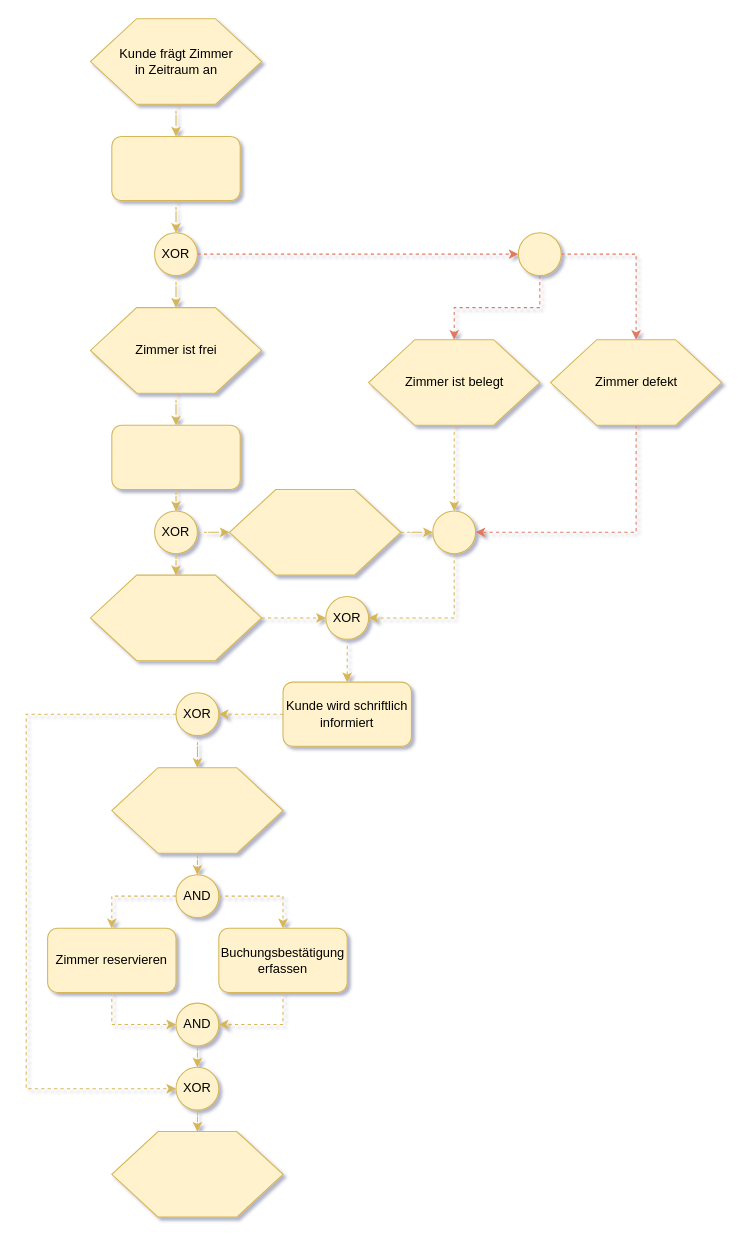
Image size: 747x1242. Some labels were removed from this diagram. Each missing label, with the centre of its shape:
Kategorie nicht verfügbar: point (314, 531)
Kategorie verfügbar: point (175, 617)
Kunde bucht: point (197, 810)
OR: point (539, 254)
Reservierung abgeschlossen: point (197, 1173)
Überprüfung der Kategorie: point (175, 457)
Überprüfung ob Zimmer in Zeitraum frei ist: point (175, 168)
